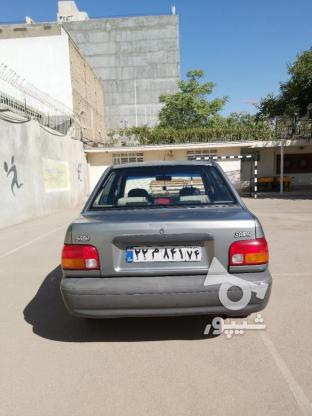car: (123, 244, 203, 264)
